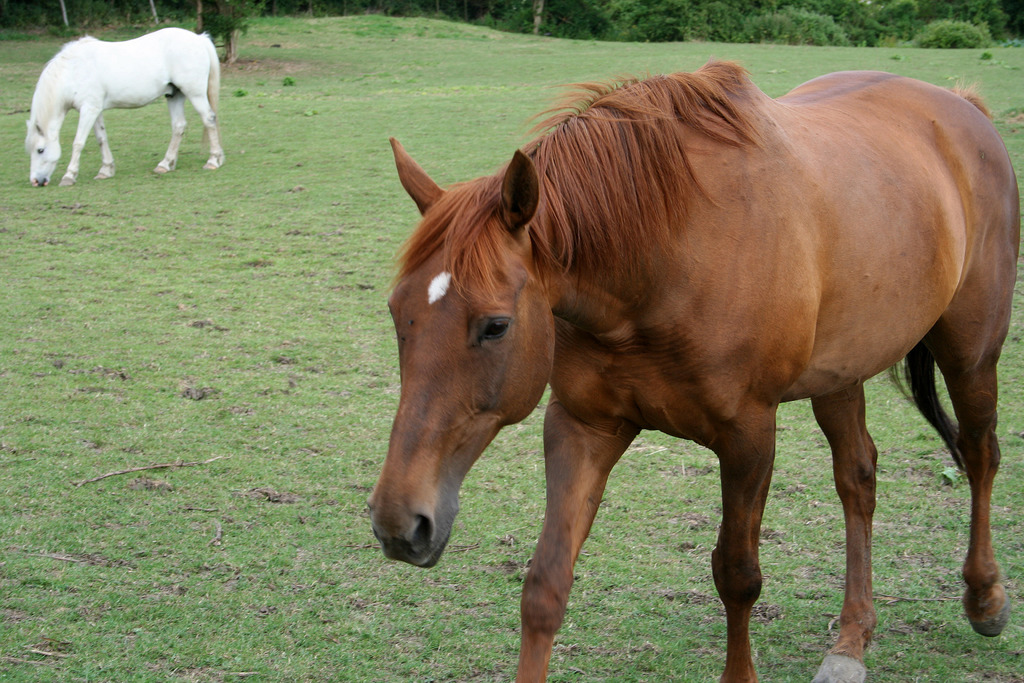horse: (22, 29, 222, 187)
